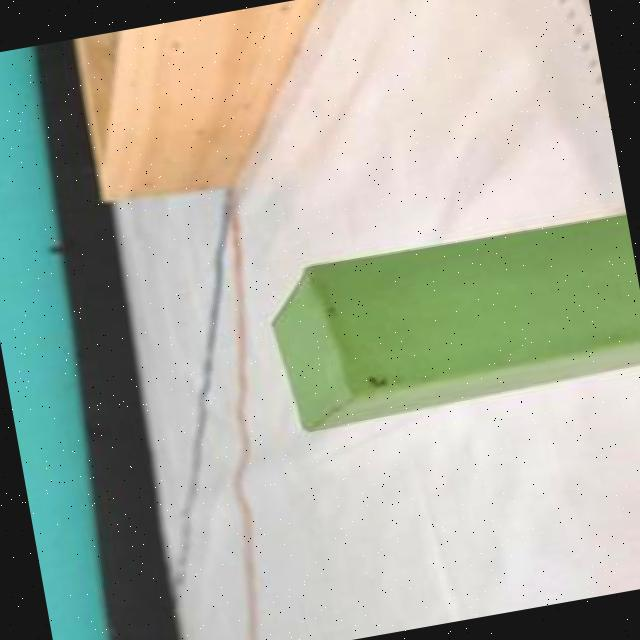greenbox: (255, 206, 640, 440)
